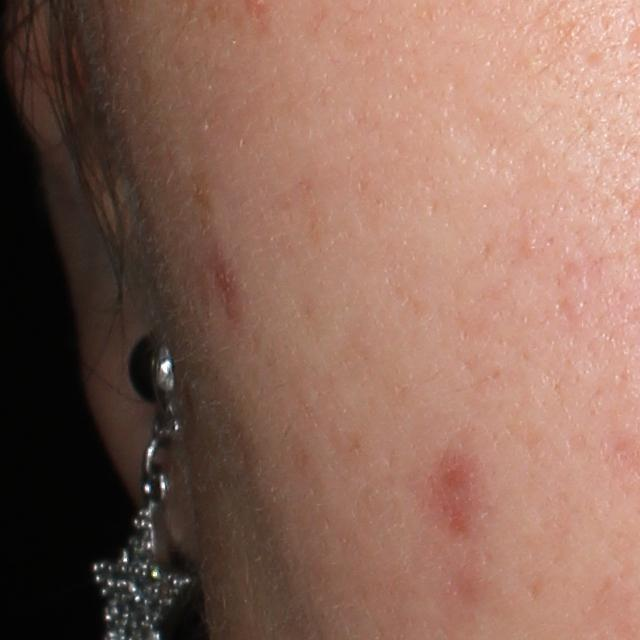atrophic_scar: (451, 105, 539, 188)
